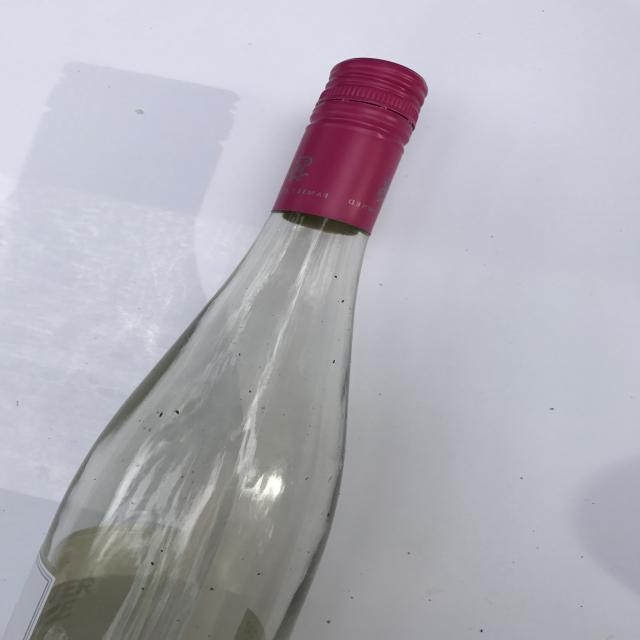glass: (0, 56, 434, 640)
